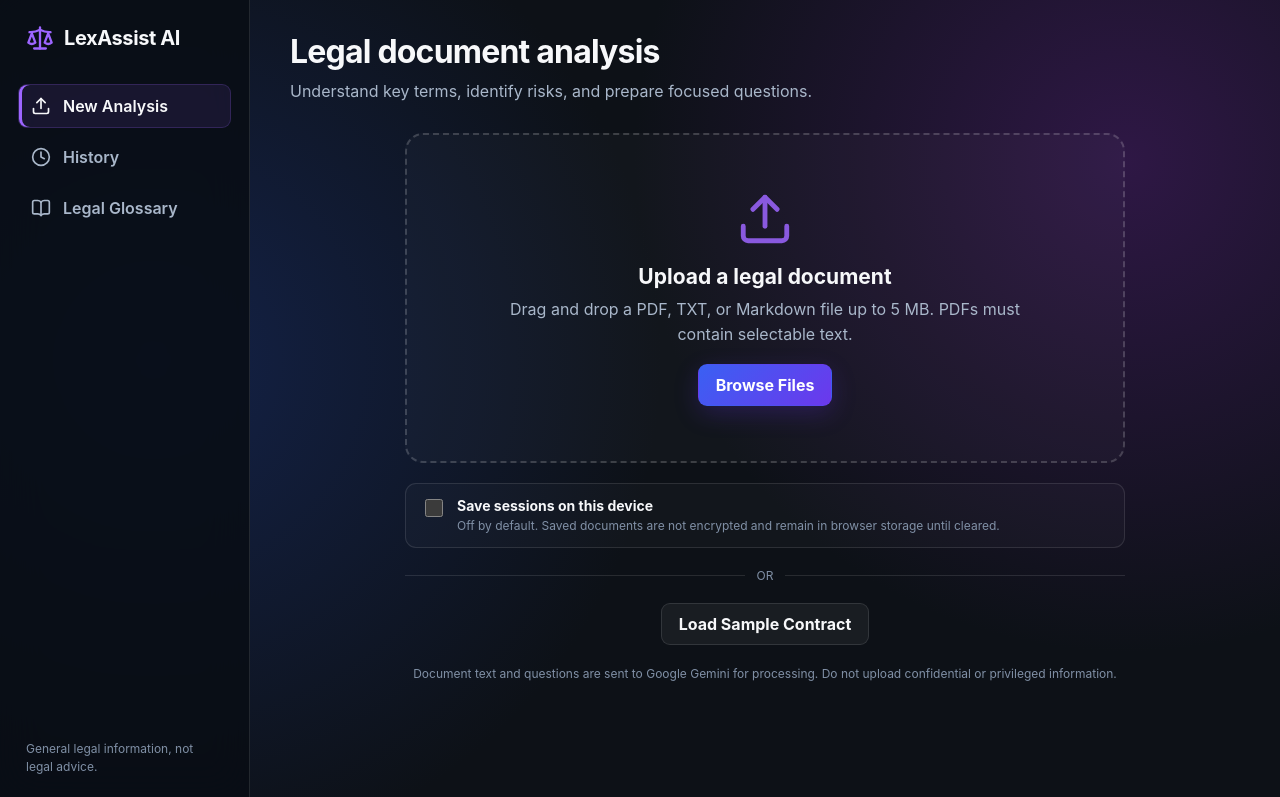
Test: App workflows › discloses local storage consent and saved-session confirmation in the workspace
The image size is (1280, 797).
Click the button "Load Sample Contract" at (765, 624), box [661,603,869,645]
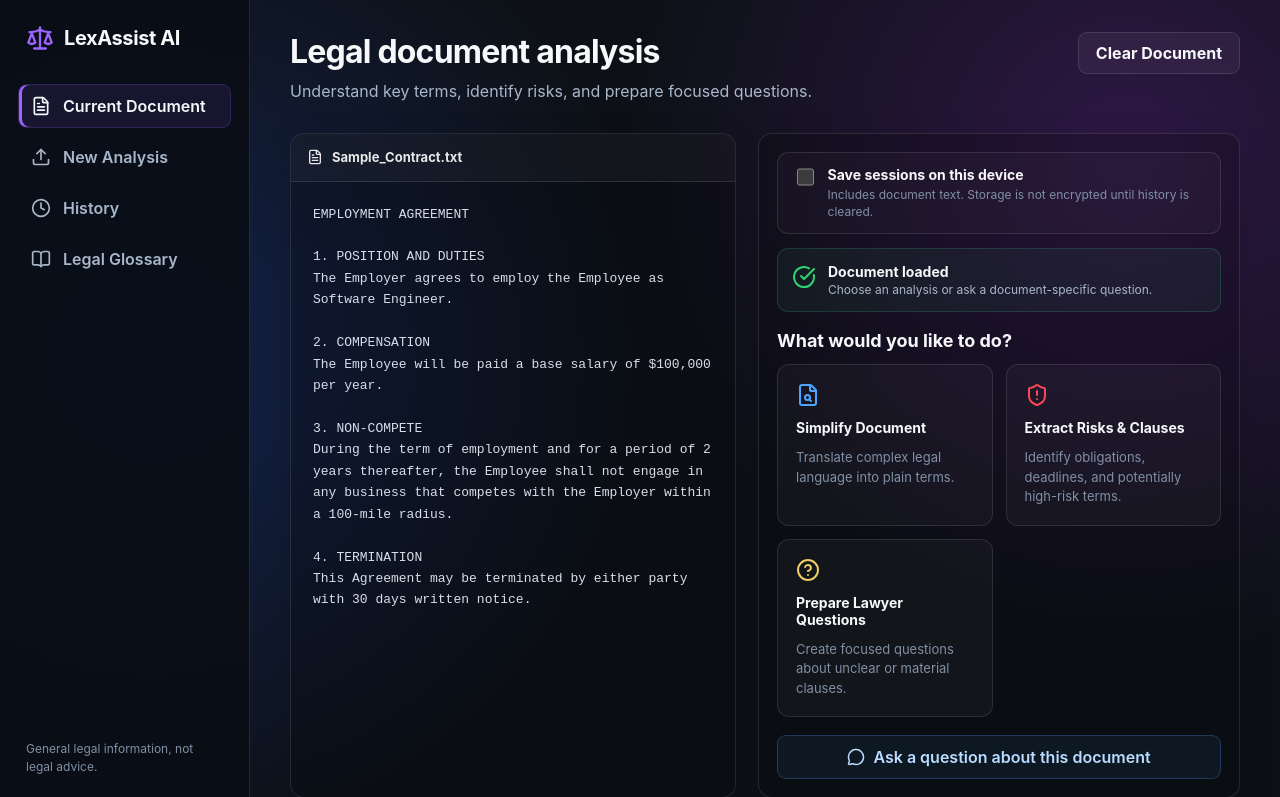
Click the checkbox labelled "Save sessions on this device" at (805, 177), box [797,168,814,186]
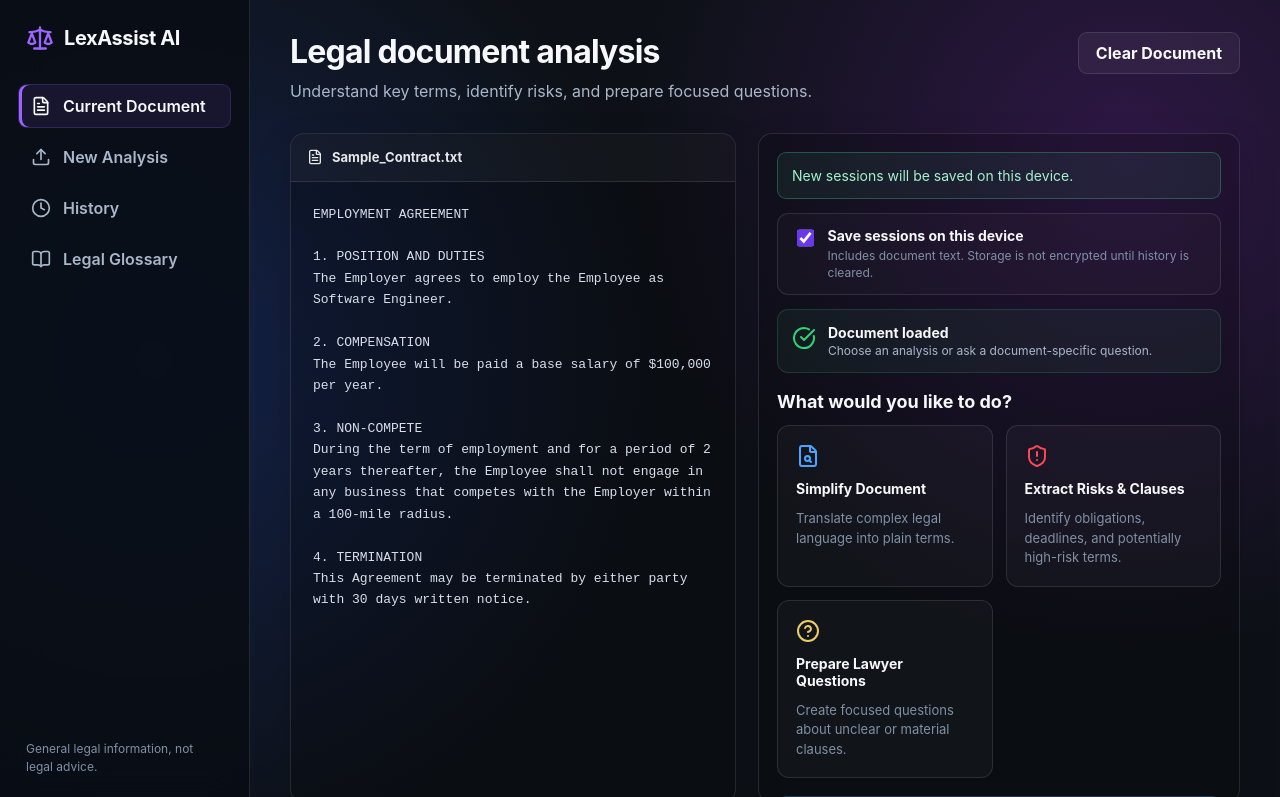
Click the button "Extract Risks" at (1113, 506), box [1006,425,1221,587]
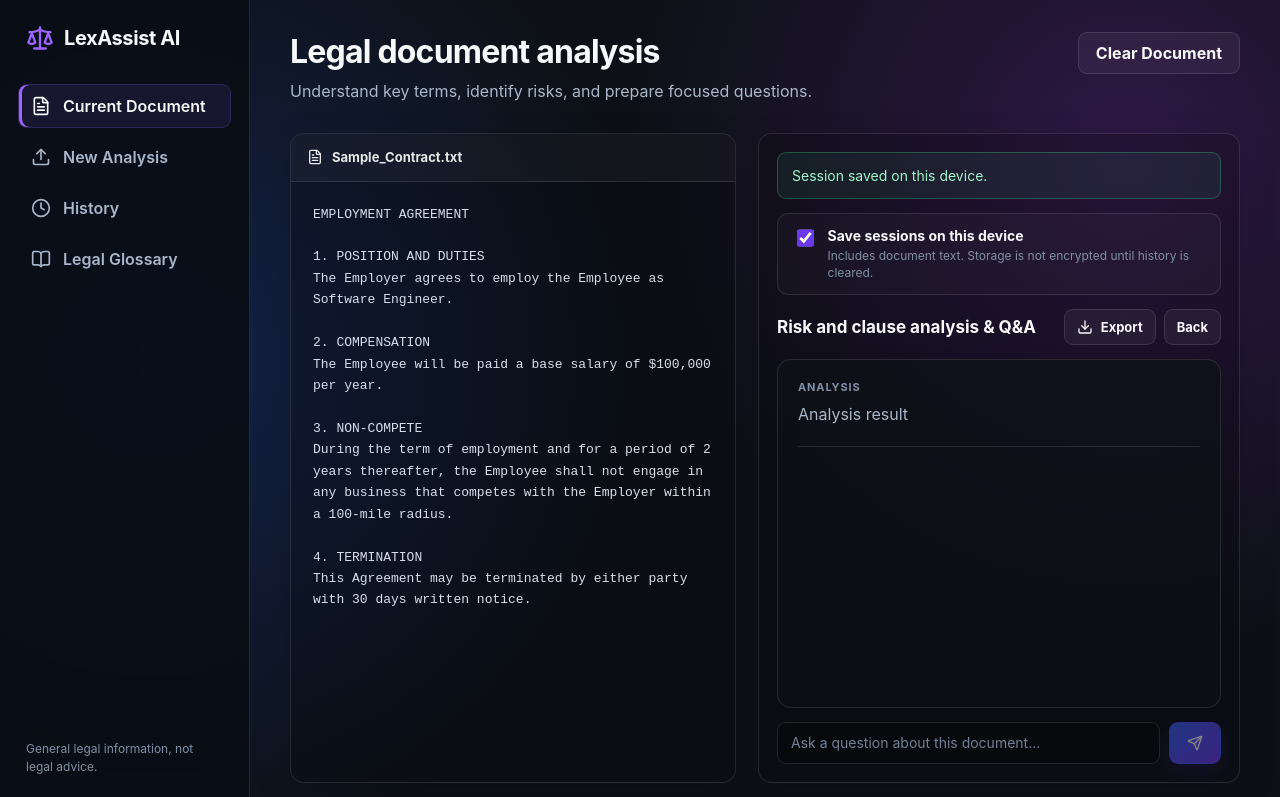
expect the checkbox labelled "Save sessions on this device" is checked: met, box [797,229,814,247]
expect the text "Session saved on this device." is shown: met, box [777,152,1221,199]
